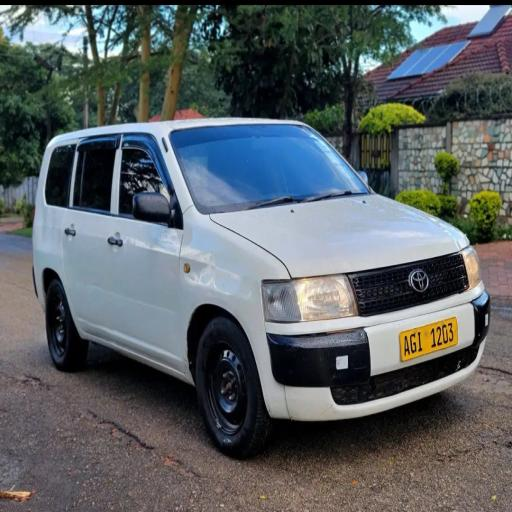number-plates: (399, 321, 464, 357)
